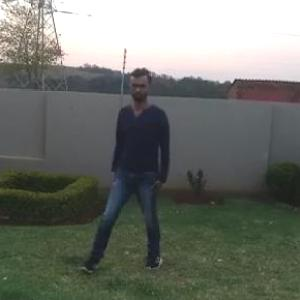follow: (116, 67, 183, 275)
